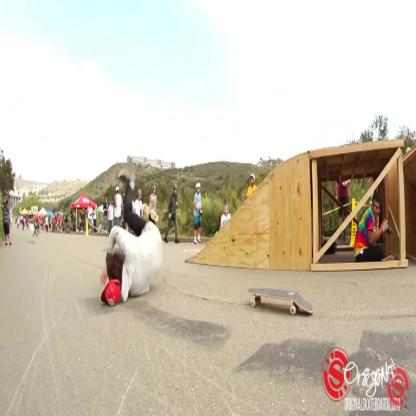Fall_Down: (98, 172, 166, 302)
